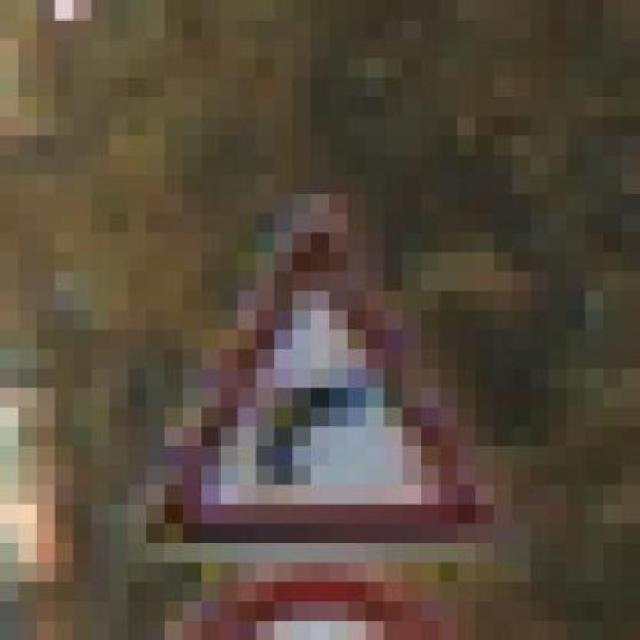Dangerous Rright Curve Ahead: (109, 155, 494, 543)
